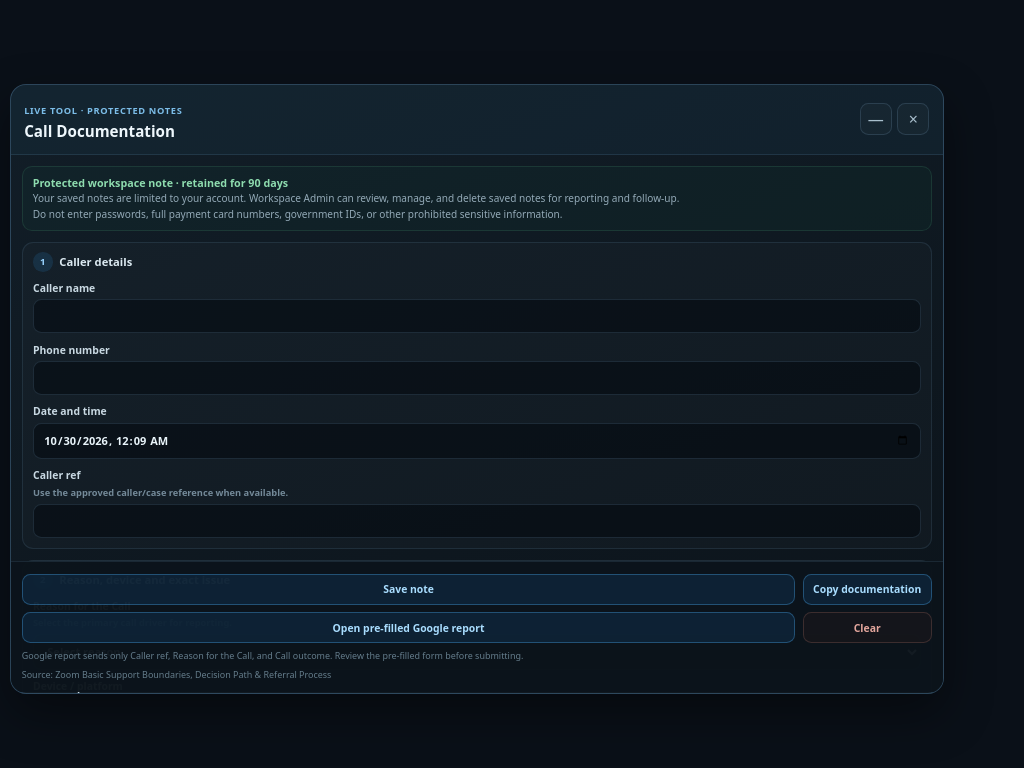
Test: requires the three reporting fields before opening the Google report
Click the button "Open pre-filled Google report".
click(409, 628)  # box left=22, top=612, right=795, bottom=644
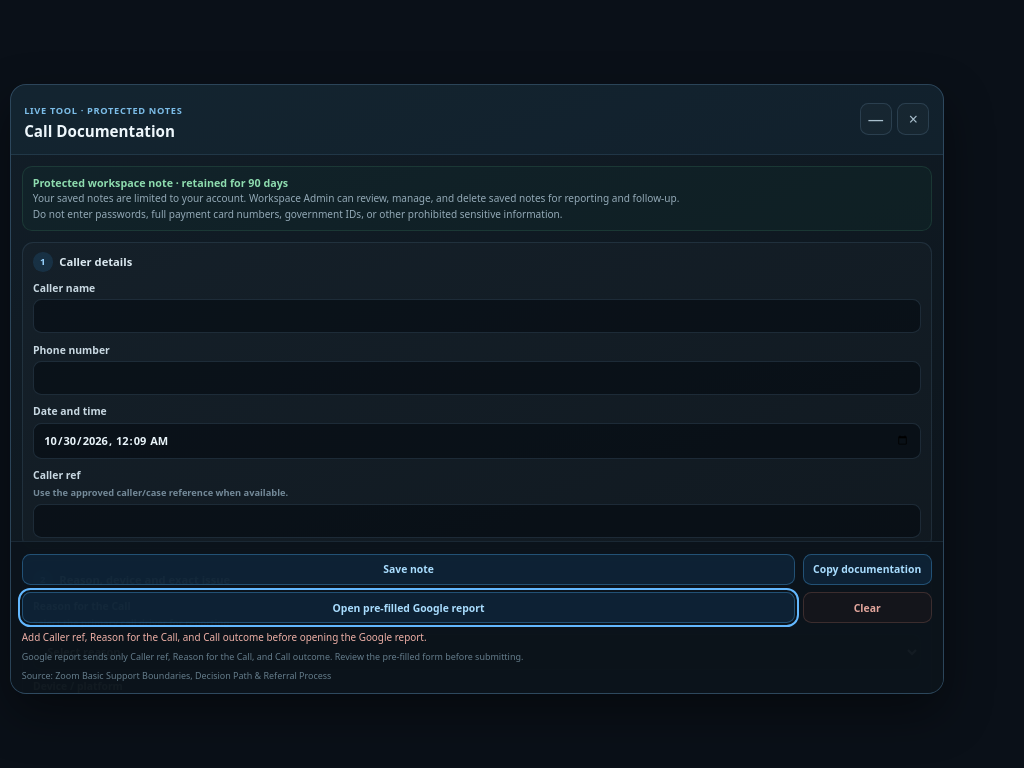
Expected: the message shows "Caller ref, Reason for the Call, and Call outcome", left=22, top=630, right=427, bottom=644
